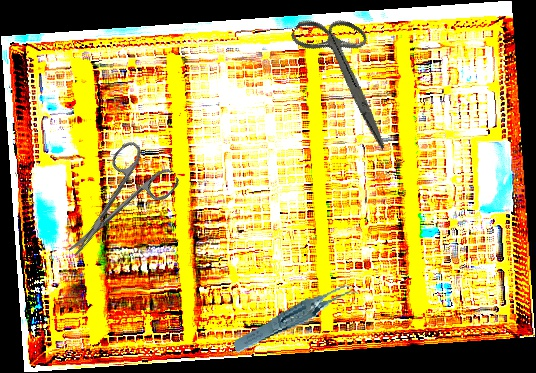Iris Scissors: (264, 0, 430, 150), (45, 135, 182, 275)
Tissue Forceps: (226, 282, 367, 355)
